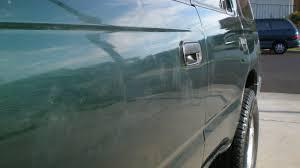doorouter-dent: (56, 3, 207, 165)
